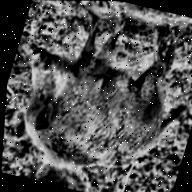boar: (1, 0, 192, 187)
